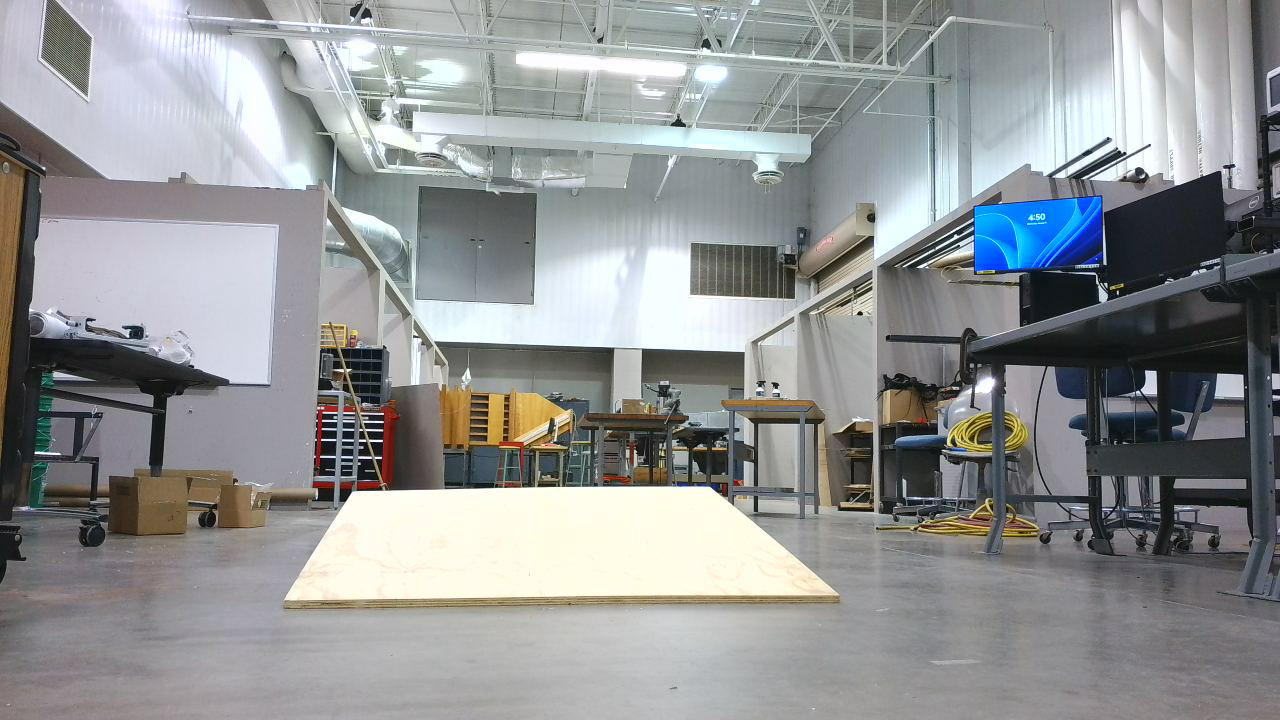ramp: (283, 482, 849, 617)
